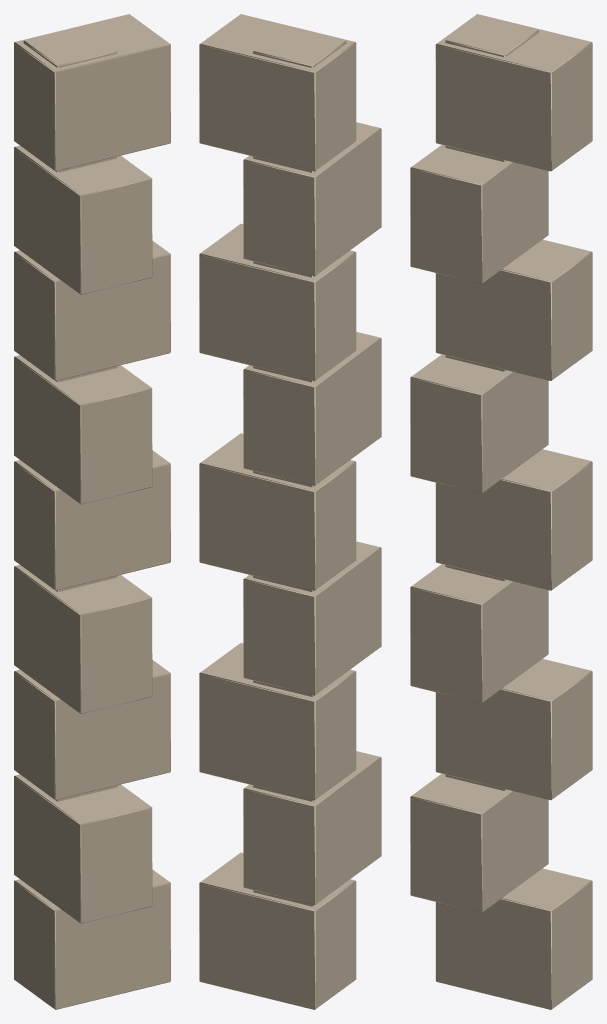
File: SM_VB_FacA_CornerGround.fbx
3 renders of one model, left to right at view 1: azimuth 30°, elevation 25°; view 2: azimuth 150°, elevation 25°; view 3: azimuth 330°, elevation 25°, orthographic.
Visible parts, largest first — view 1: SM_VB_FacA_CornerGround; view 2: SM_VB_FacA_CornerGround; view 3: SM_VB_FacA_CornerGround.
Boxes of the visible parts, x1,y1,x2,y2 form: SM_VB_FacA_CornerGround: (14,14,170,1009); SM_VB_FacA_CornerGround: (199,14,381,1009); SM_VB_FacA_CornerGround: (410,14,592,1009).
Bounding box in the file's own units: 0.58 × 4.5 × 0.58.
